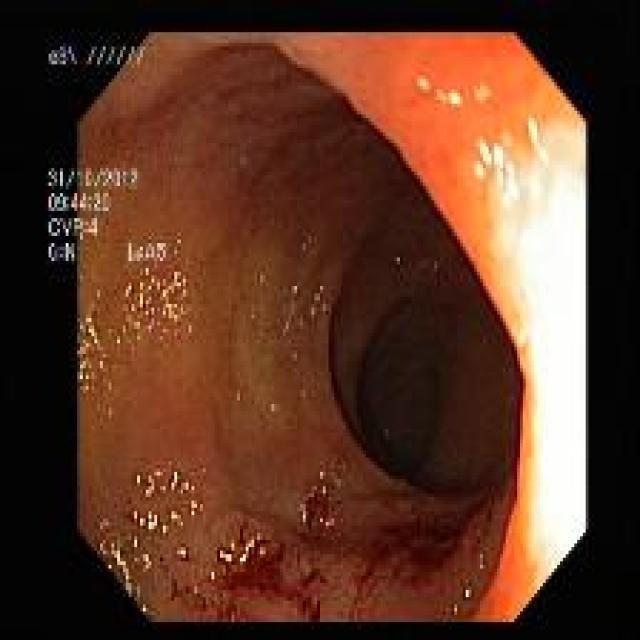ulcerative-colitis: (79, 45, 522, 621)
